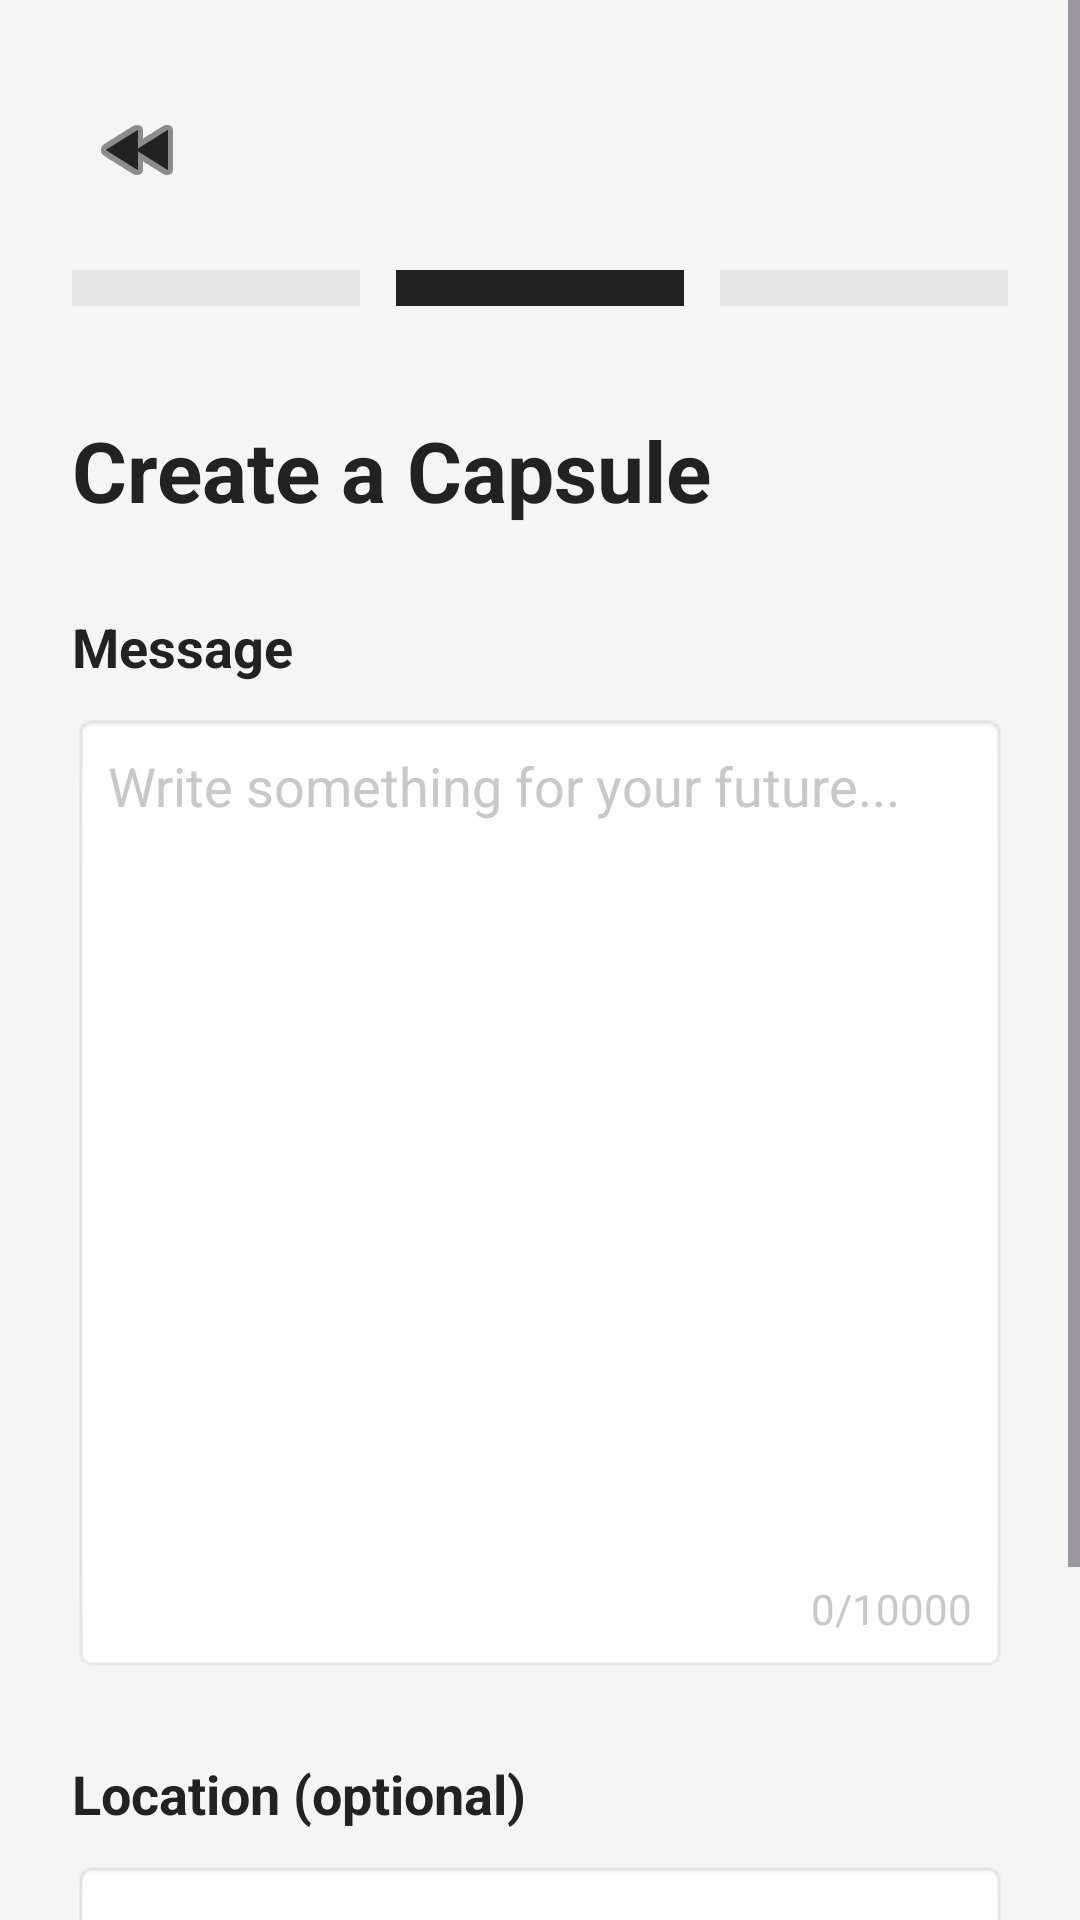

Icon click points for this 1080px x 1920px phone screenshot, format (x=x, y=y):
rew: (x=137, y=150)
